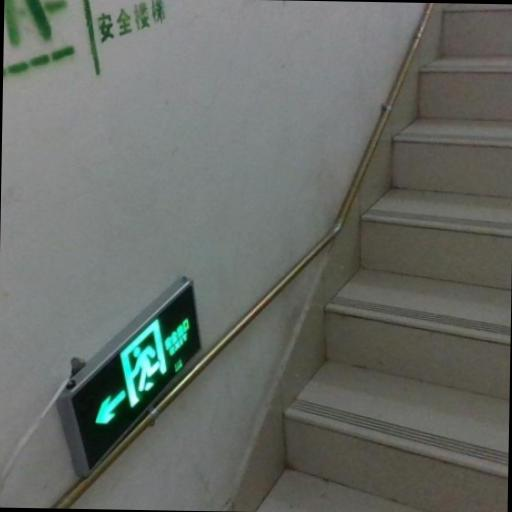stairs: (260, 3, 511, 511)
